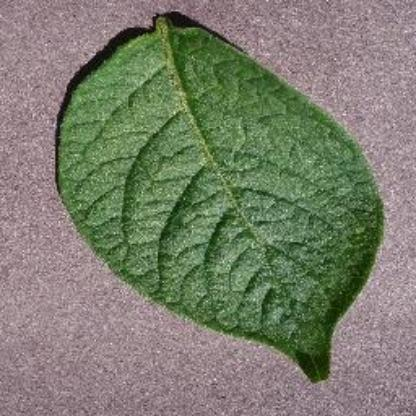Healthy-plant: (52, 16, 394, 390)
